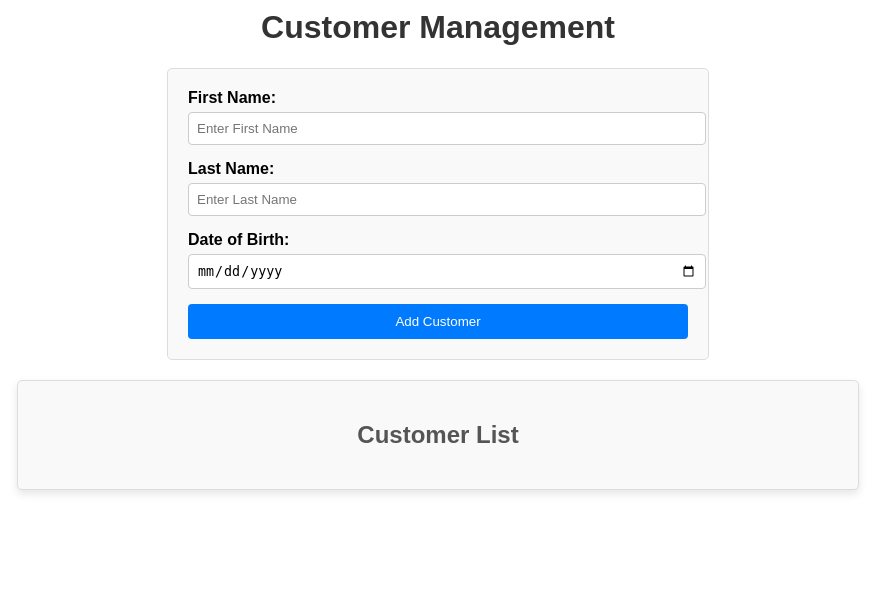
Test: App Component › adds a new customer and updates the list
The width and height of the screenshot is (877, 596).
In the field with placeholder "Enter First Name": (447, 128) [188, 112, 706, 145], type "New"
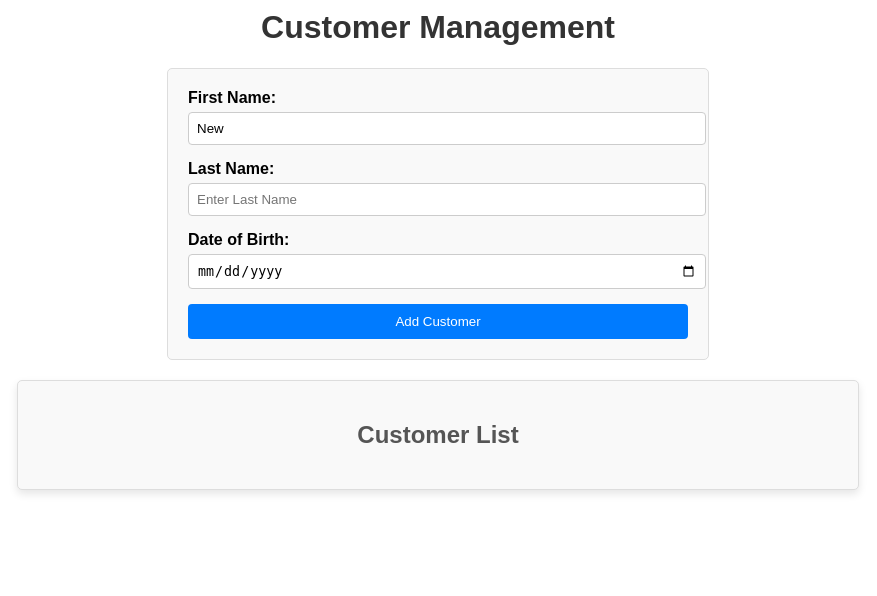
In the field with placeholder "Enter Last Name": (447, 199) [188, 183, 706, 216], type "Customer"
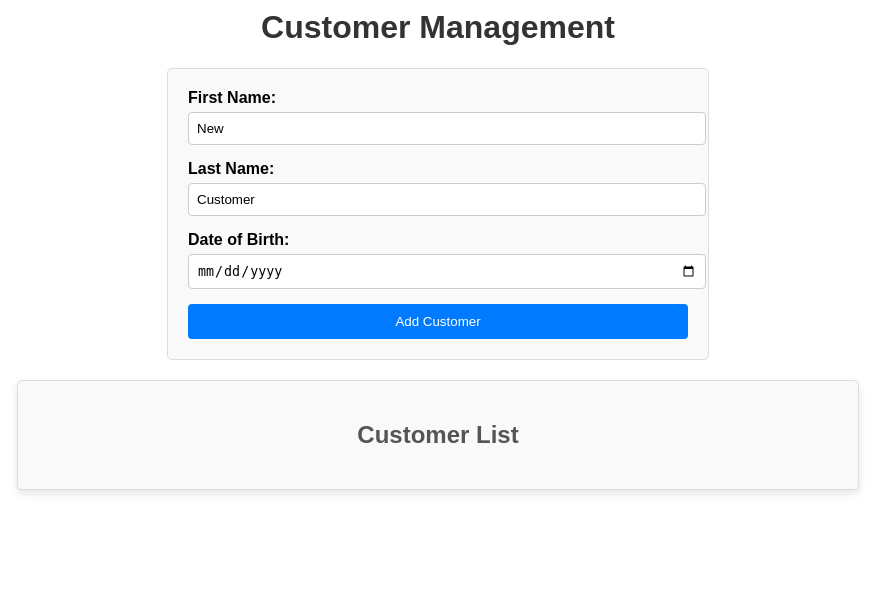
In the date field labelled "Date of Birth:": (447, 272) [188, 254, 706, 289], type "2001-01-01"
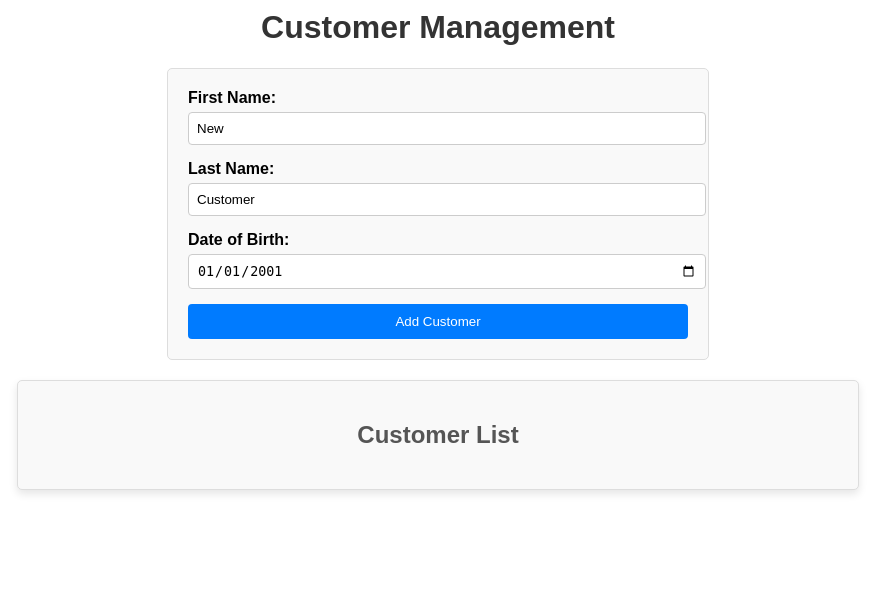
Click the button "Add Customer": (438, 322) [188, 304, 688, 339]
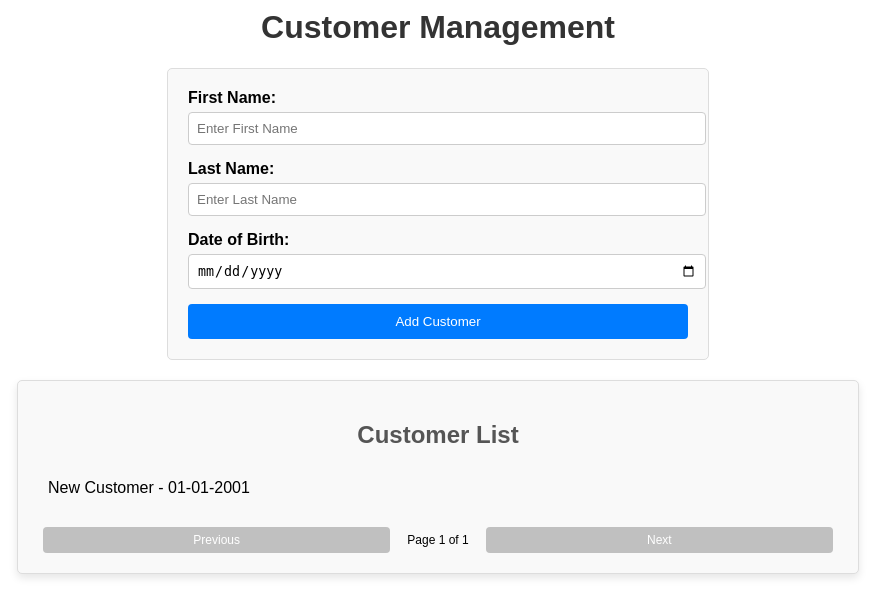
Expected: the list item "New Customer - 01-01-2001" is shown, [48, 479, 250, 496]
